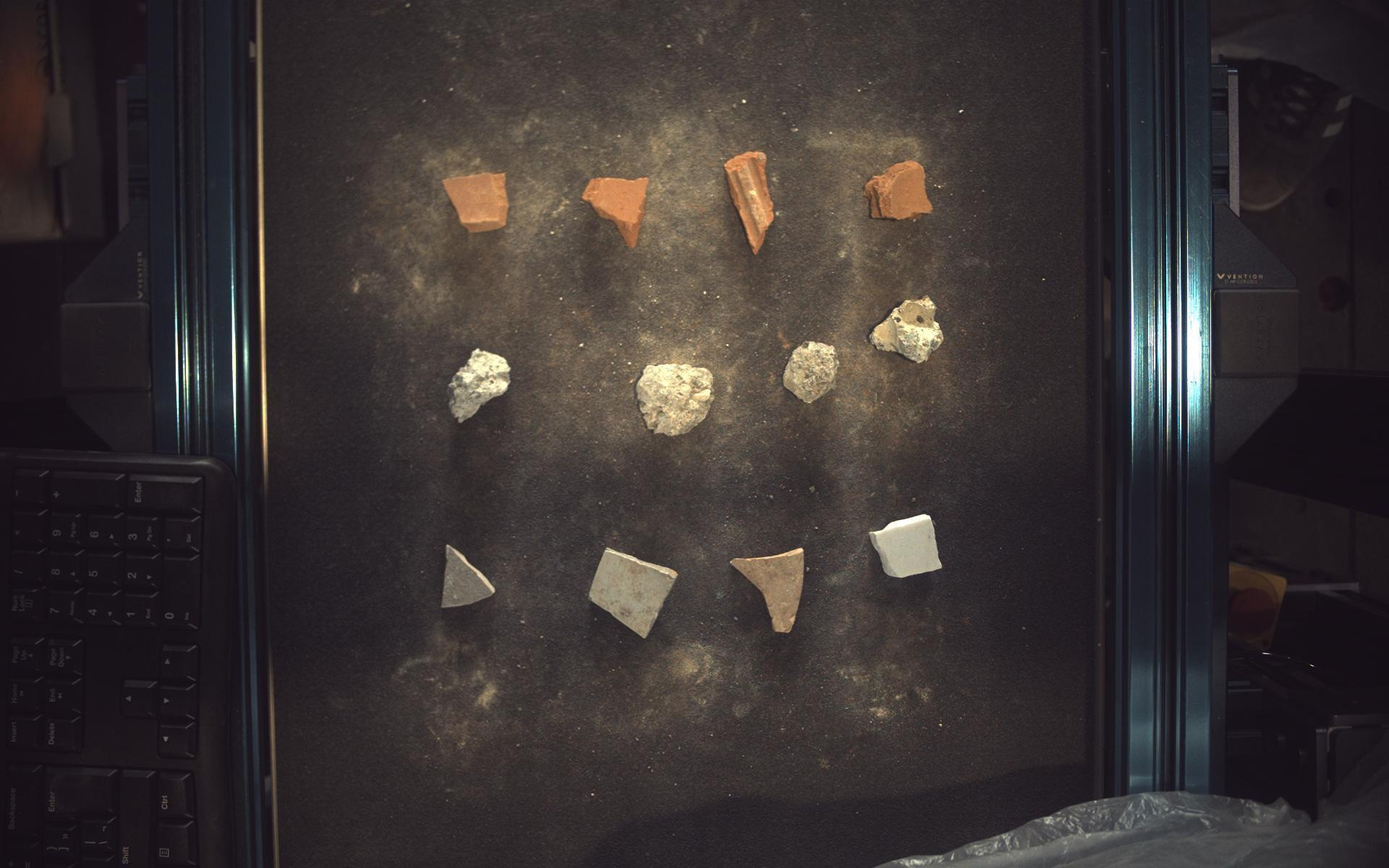brick: (725, 150, 775, 254), (583, 178, 649, 247), (866, 159, 934, 219), (443, 172, 509, 231)
concrete: (637, 364, 715, 436), (871, 296, 946, 362), (448, 349, 511, 422), (785, 341, 841, 403)
tile: (590, 549, 678, 639), (733, 548, 804, 634), (871, 515, 944, 578), (441, 545, 496, 608)
